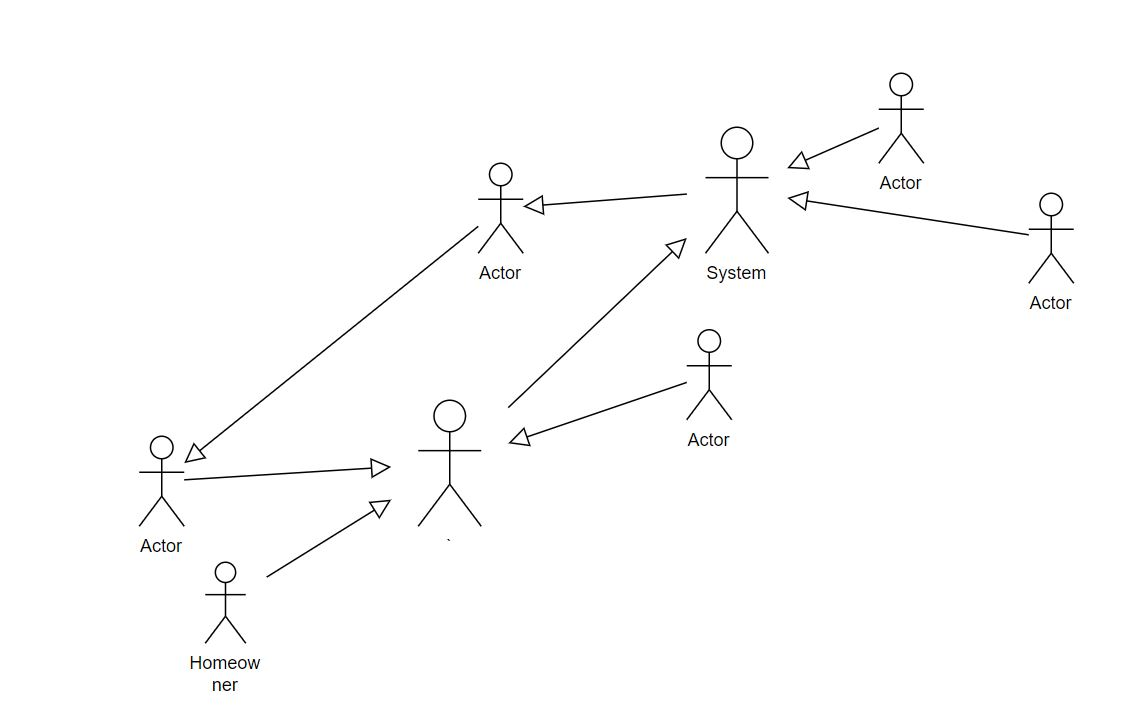actor: (703, 124, 768, 255), (421, 401, 480, 529), (877, 71, 926, 165), (136, 437, 186, 528), (684, 330, 732, 420), (478, 164, 526, 253), (1030, 190, 1074, 287), (202, 563, 246, 645)
generalization: (183, 228, 478, 463), (507, 239, 687, 409), (786, 189, 1029, 237), (511, 381, 685, 446), (267, 499, 392, 578), (182, 459, 391, 483), (789, 126, 879, 169), (525, 191, 689, 213)
text: (185, 651, 261, 693), (699, 257, 772, 288), (133, 532, 191, 560), (1025, 289, 1076, 317), (869, 172, 926, 195), (681, 429, 737, 452), (476, 264, 525, 283)
